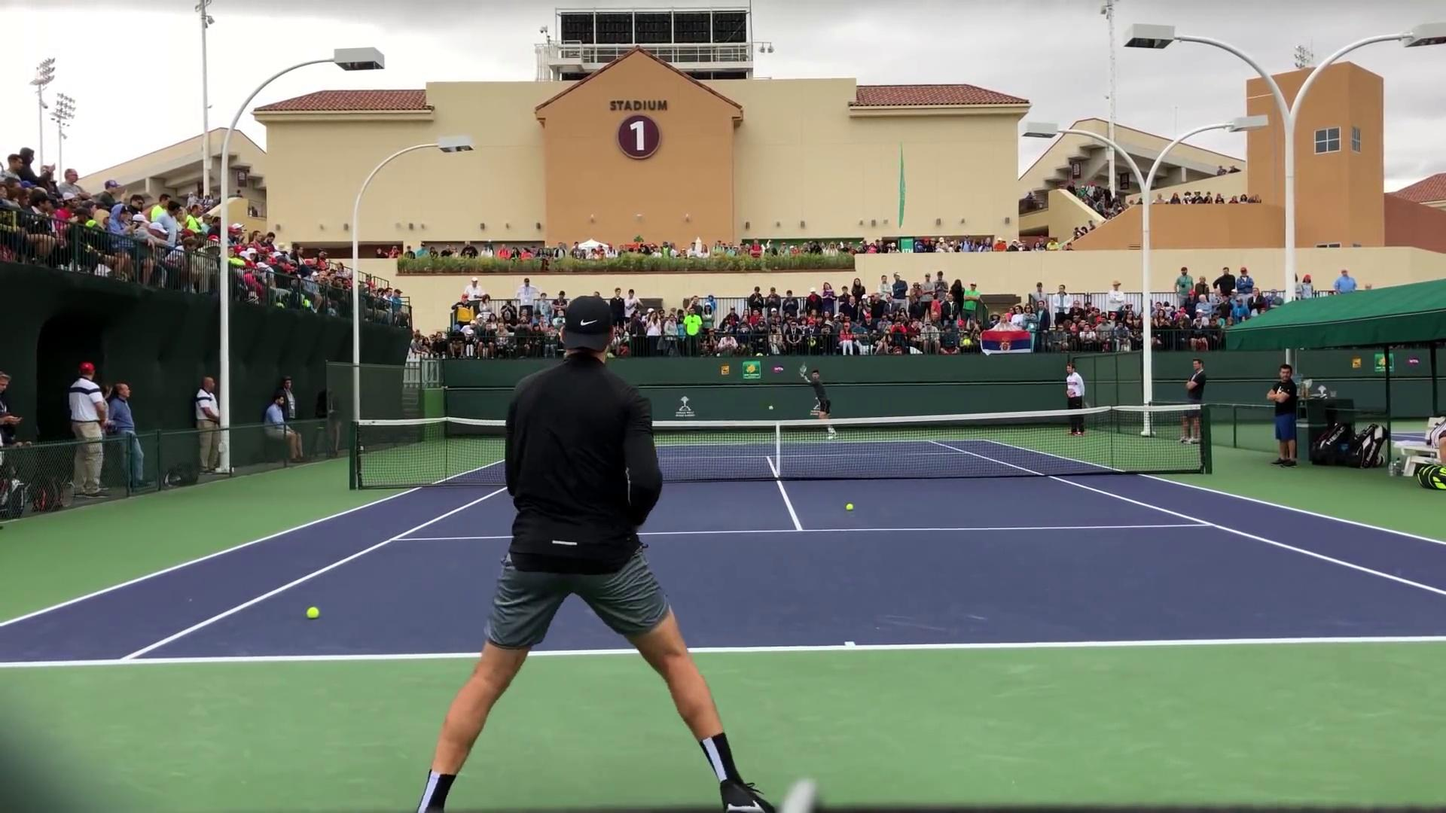ball: (305, 606, 320, 618), (766, 403, 776, 412), (845, 503, 853, 511)
